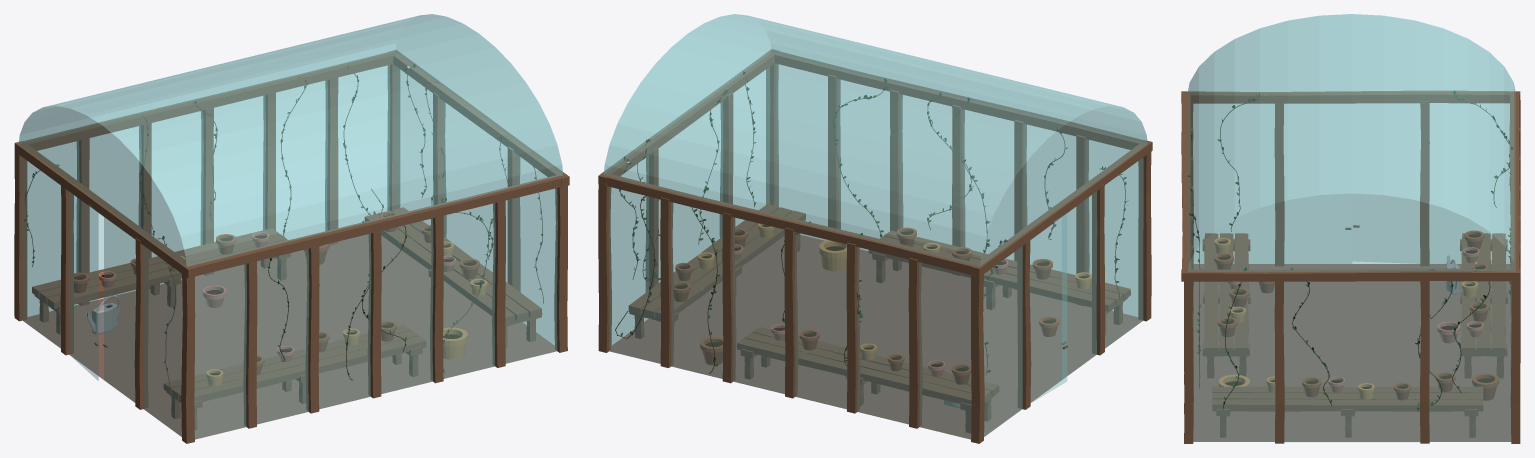
Rendered from serre.glb.
3 views of the same model, side by side, from view 1: azimuth 30°, elevation 25°; view 2: azimuth 150°, elevation 25°; view 3: azimuth 270°, elevation 25° (orthographic). The views are drawn at different scales.
Parts seen in each view (by area): view 1: Plane.006, Cube.006, Cube.002, Cube.001, Ivy, Cube.005, arrosoir, Cube.007, Cylinder.011; view 2: Plane.006, Cube.002, Cube.006, Cube.001, Ivy, Cube.007, Cube.005, Cylinder.011, Cylinder; view 3: Plane.006, Cube.001, Cube.002, Cube.006, Ivy, Cylinder, Cube.003, Cylinder.022, Cylinder.011, Cube.005.
Part boxes in pixels (x1,y1,x2,y2): Plane.006: (14, 14, 569, 443); Cube.006: (163, 325, 426, 408); Cube.002: (32, 228, 290, 312); Cube.001: (364, 207, 542, 326); Ivy: (24, 64, 543, 388); Cube.005: (39, 258, 286, 334); arrosoir: (86, 295, 120, 334); Cube.007: (171, 353, 418, 430); Cylinder.011: (443, 327, 467, 359); Plane.006: (598, 14, 1152, 443); Cube.002: (737, 327, 999, 411); Cube.006: (868, 230, 1130, 314); Cube.001: (628, 204, 805, 321); Ivy: (615, 71, 1127, 374); Cube.007: (876, 259, 1122, 335); Cube.005: (744, 356, 991, 433); Cylinder.011: (819, 240, 846, 271); Cylinder: (700, 337, 723, 365); Plane.006: (1181, 14, 1520, 443); Cube.001: (1212, 386, 1483, 416); Cube.002: (1460, 233, 1507, 356); Cube.006: (1202, 233, 1250, 356); Ivy: (1187, 90, 1513, 411); Cylinder: (1472, 373, 1499, 400); Cube.003: (1220, 416, 1475, 437); Cylinder.022: (1437, 321, 1460, 343); Cylinder.011: (1218, 374, 1250, 386); Cube.005: (1464, 356, 1503, 378).
Size of the model in its own units: 13.39 by 8.49 by 10.47.
